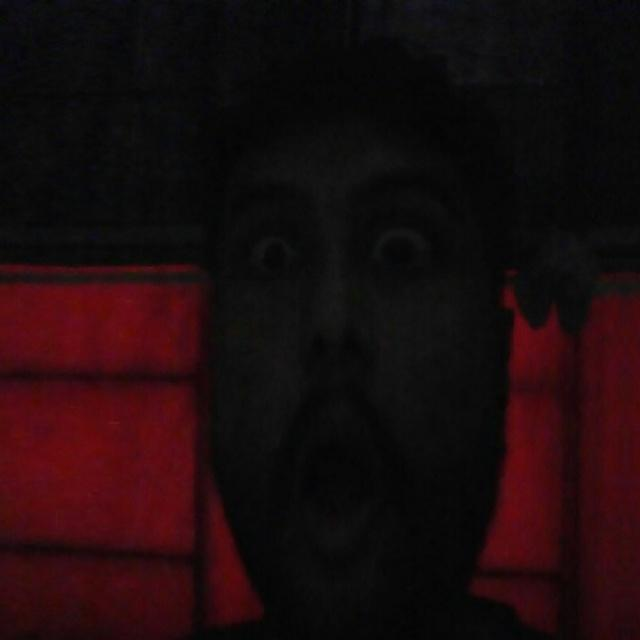Surprised: (166, 122, 499, 589)
